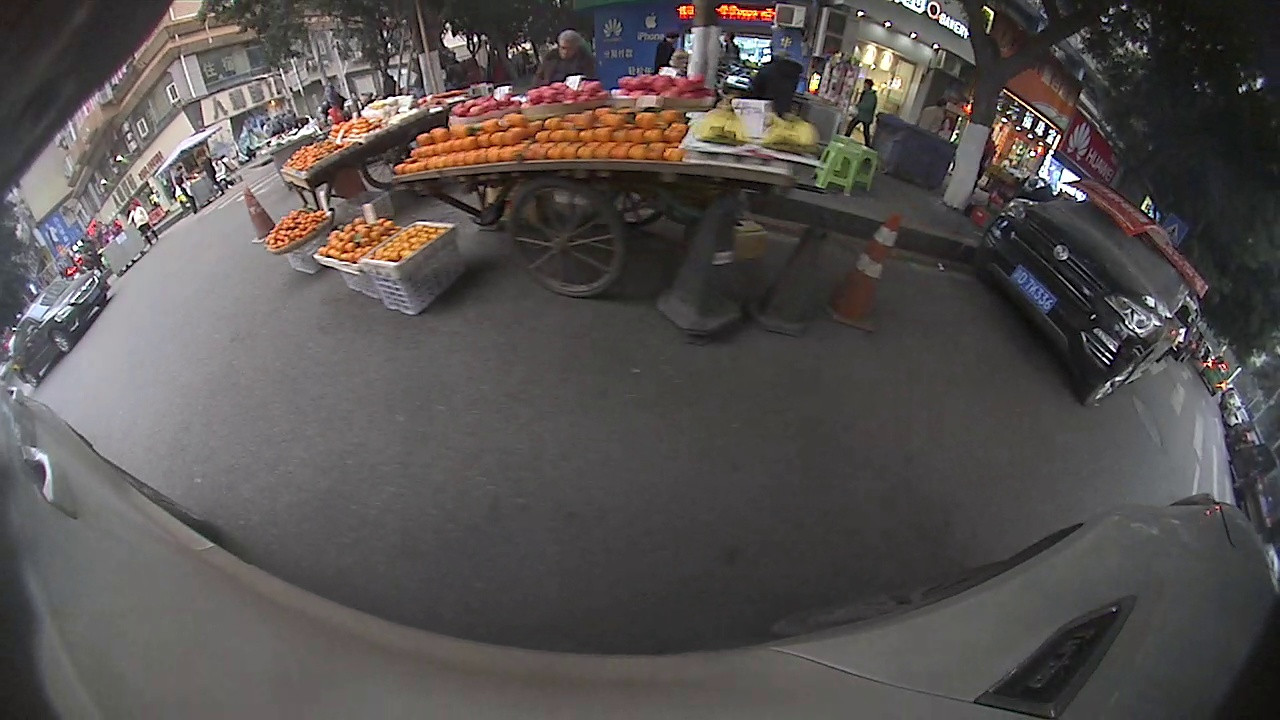car: (969, 188, 1197, 410), (13, 269, 110, 390)
front: (1083, 359, 1146, 408), (46, 331, 71, 353)
person: (540, 24, 597, 86), (862, 78, 876, 144)
rear: (20, 371, 39, 388)
